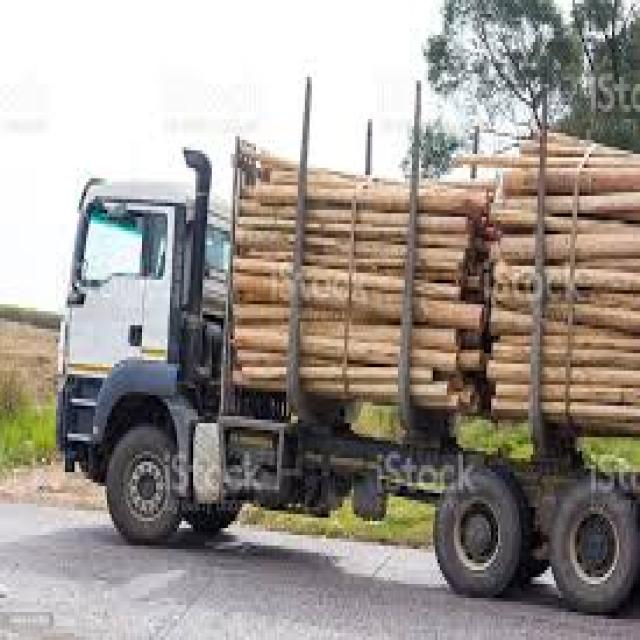Heavy Duty Truck: (53, 108, 640, 608)
